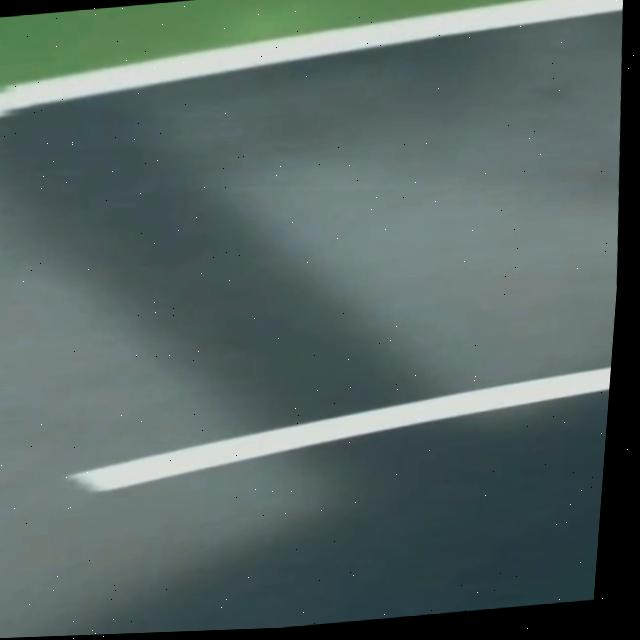center: (69, 368, 611, 491)
right: (0, 0, 623, 114)
